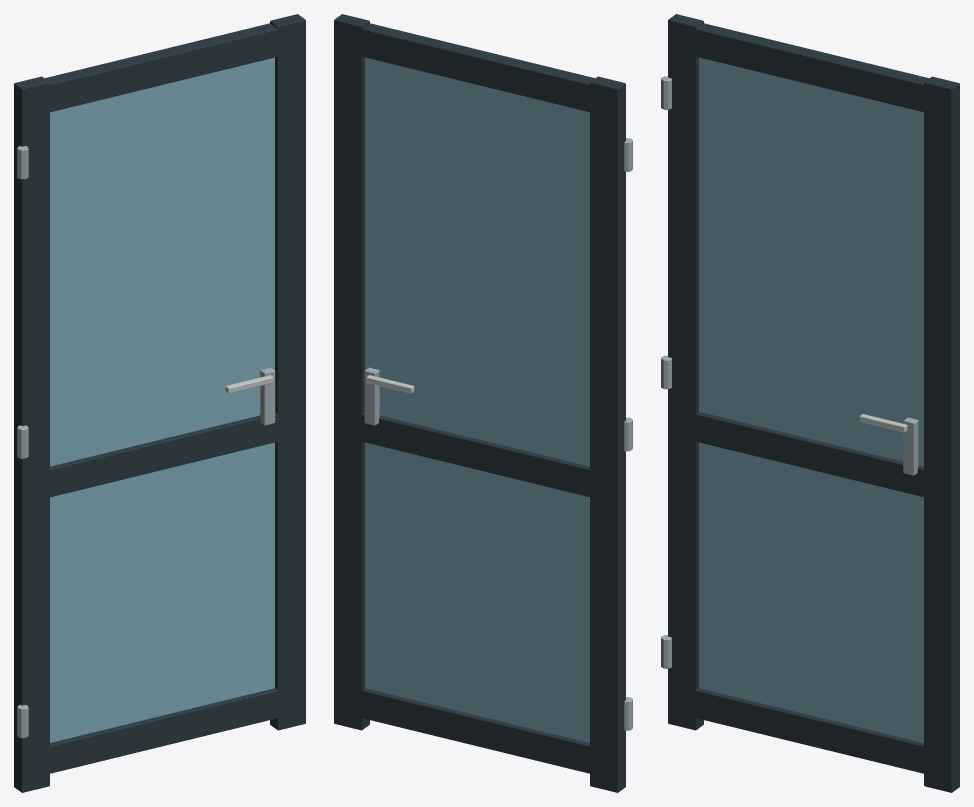
File: b21_door_leaf_glass_900mm.glb
The picture shows the model from 3 angles, left to right: view 1: azimuth 30°, elevation 25°; view 2: azimuth 150°, elevation 25°; view 3: azimuth 330°, elevation 25°; orthographic projection.
Visible parts, largest first — view 1: b21_door_leaf_glass_900mm; view 2: b21_door_leaf_glass_900mm; view 3: b21_door_leaf_glass_900mm.
Part boxes in pixels (x1,y1,x2,y2): b21_door_leaf_glass_900mm: (14,14,305,792); b21_door_leaf_glass_900mm: (334,14,632,792); b21_door_leaf_glass_900mm: (661,14,959,792).
Size of the model in its own units: 0.916 by 2.13 by 0.128.
